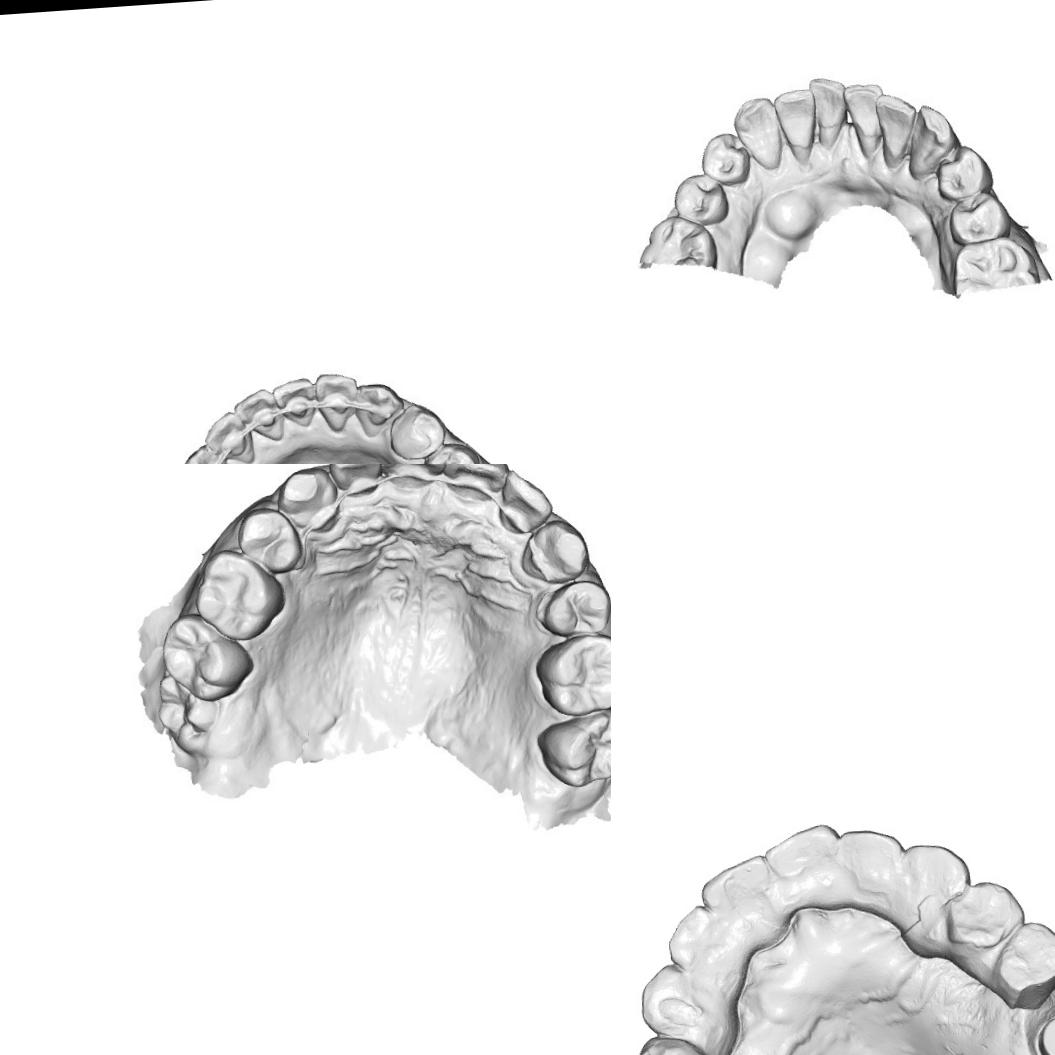canine: (633, 960, 708, 1045), (280, 465, 350, 540), (898, 839, 974, 898), (729, 92, 784, 173), (904, 100, 960, 176), (522, 520, 584, 588), (352, 380, 404, 440), (178, 441, 236, 464)
implant: (1032, 1010, 1055, 1055)
incisor: (759, 822, 842, 886), (697, 851, 774, 919), (662, 904, 729, 978), (833, 825, 906, 882), (868, 89, 922, 162), (311, 369, 360, 436), (230, 386, 286, 444), (497, 473, 550, 534), (770, 85, 818, 152), (838, 79, 889, 142), (199, 408, 254, 464), (268, 373, 318, 431), (806, 72, 848, 136), (449, 464, 507, 504), (329, 464, 389, 501), (384, 464, 444, 490)
molar: (166, 611, 258, 705), (198, 551, 274, 635), (539, 707, 611, 789), (544, 631, 611, 714), (946, 235, 1038, 294), (634, 212, 722, 272)
premolar: (942, 876, 1024, 953), (992, 916, 1055, 997), (237, 501, 298, 576), (932, 142, 998, 204), (384, 401, 448, 464), (669, 168, 731, 228), (547, 579, 611, 637), (946, 193, 1010, 245), (698, 130, 753, 187), (626, 1030, 716, 1055), (417, 439, 483, 464)
